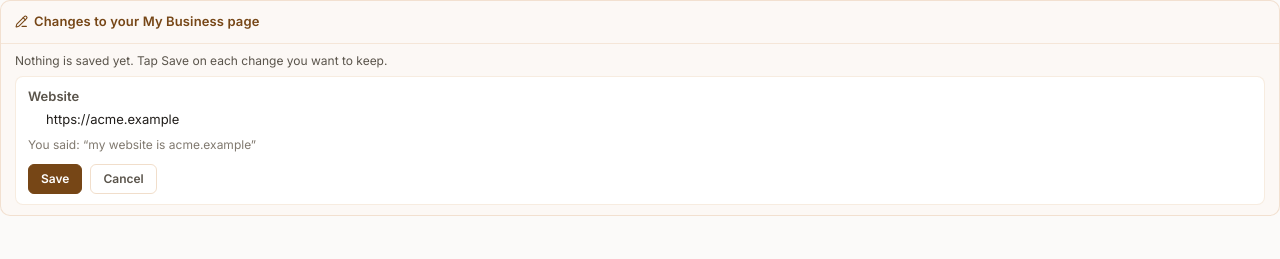
Test: ProfileUpdateArtifact › keeps Save open and states the reason when a Save is refused
The image size is (1280, 259).
Click the button "Save". click: (55, 178)
box: [28,164,82,194]
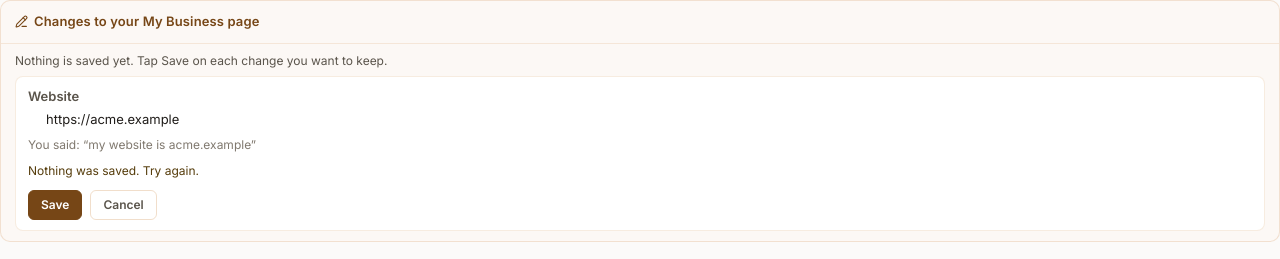
Expected: the button "Save" is shown, [28,190,82,220]
Result: the message reads "Nothing was saved. Try again." at [28,162,199,178]
